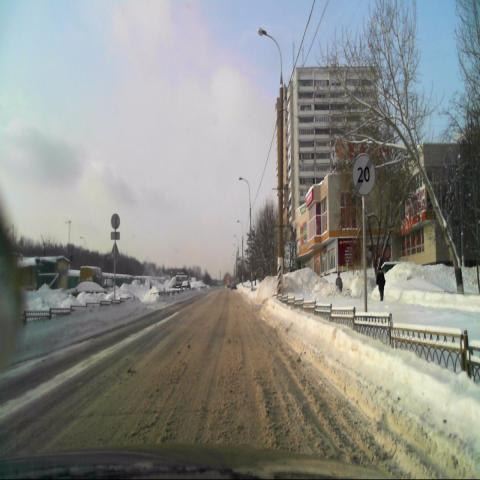3_25: (352, 152, 375, 196)
